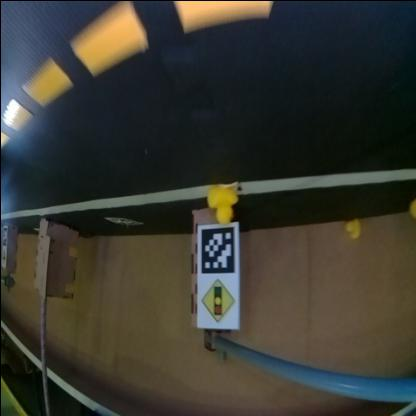Duckie: (207, 186, 236, 224), (343, 220, 358, 238)
QR code: (197, 225, 233, 275), (103, 217, 141, 227)
Signal sign: (198, 276, 236, 324)
